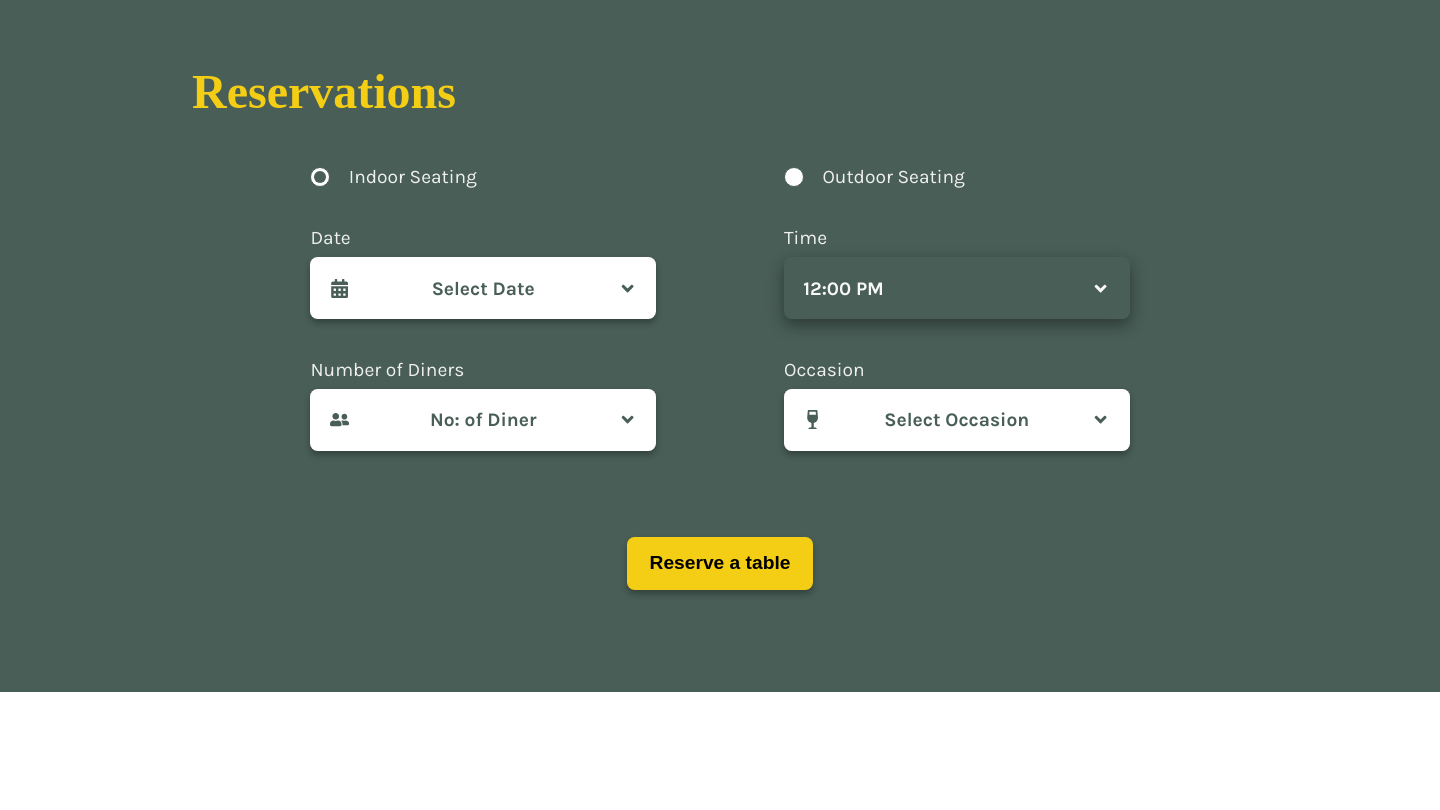
Test: BookingForm › should allow the user to select the number of diners
Step 1. Click the text "No: of Diner" → (483, 420), box [430, 408, 536, 431]
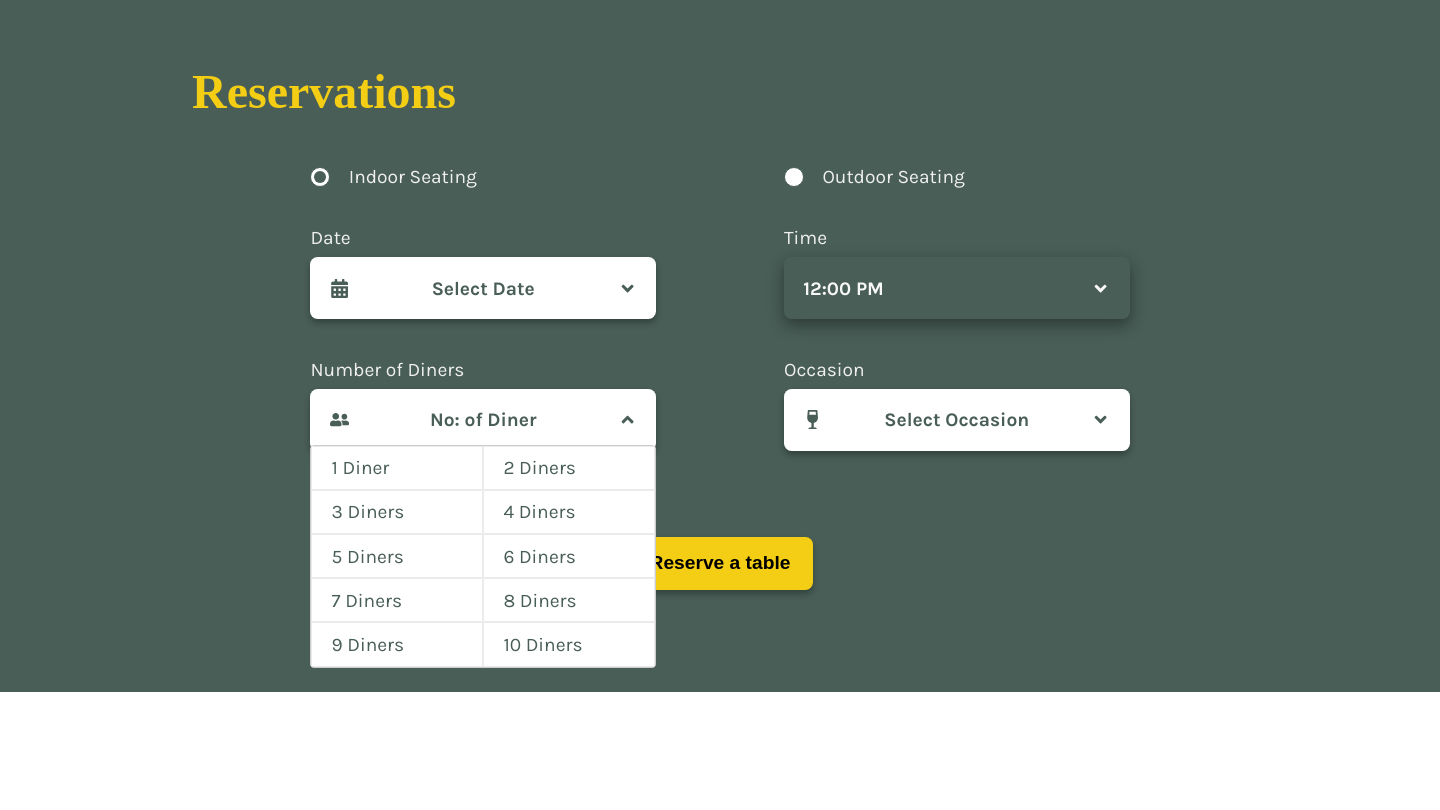
Step 2. Click the list item "3 Diners" → (397, 512), box [311, 490, 483, 534]
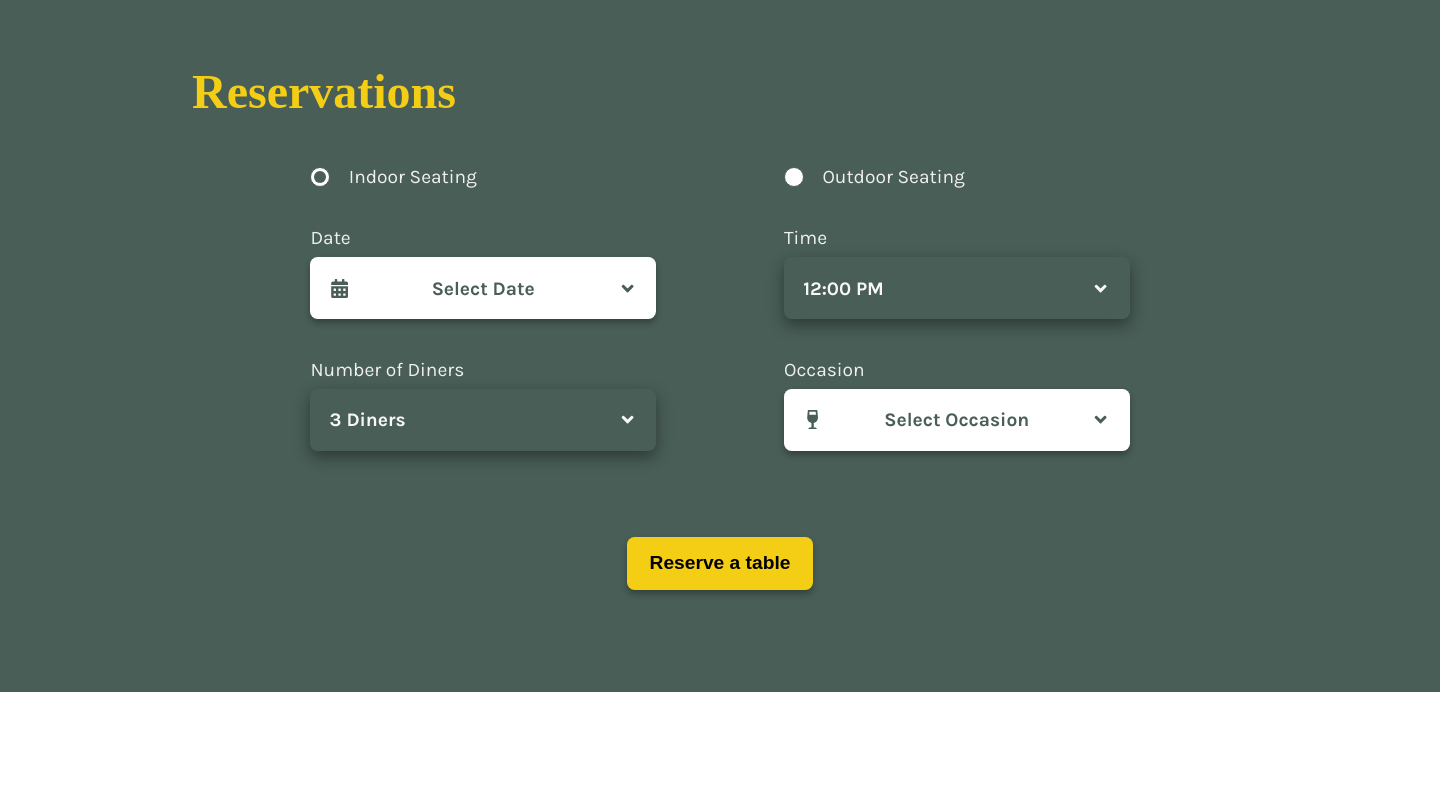
Check: the text "3 Diners" is shown, box [330, 408, 406, 431]
